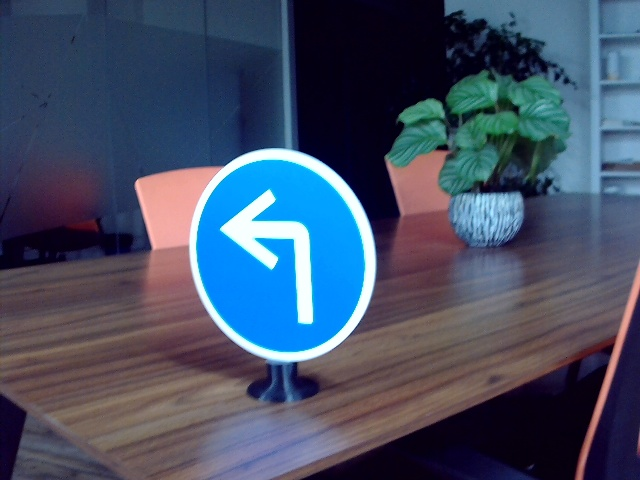turn_left: (218, 185, 326, 327)
